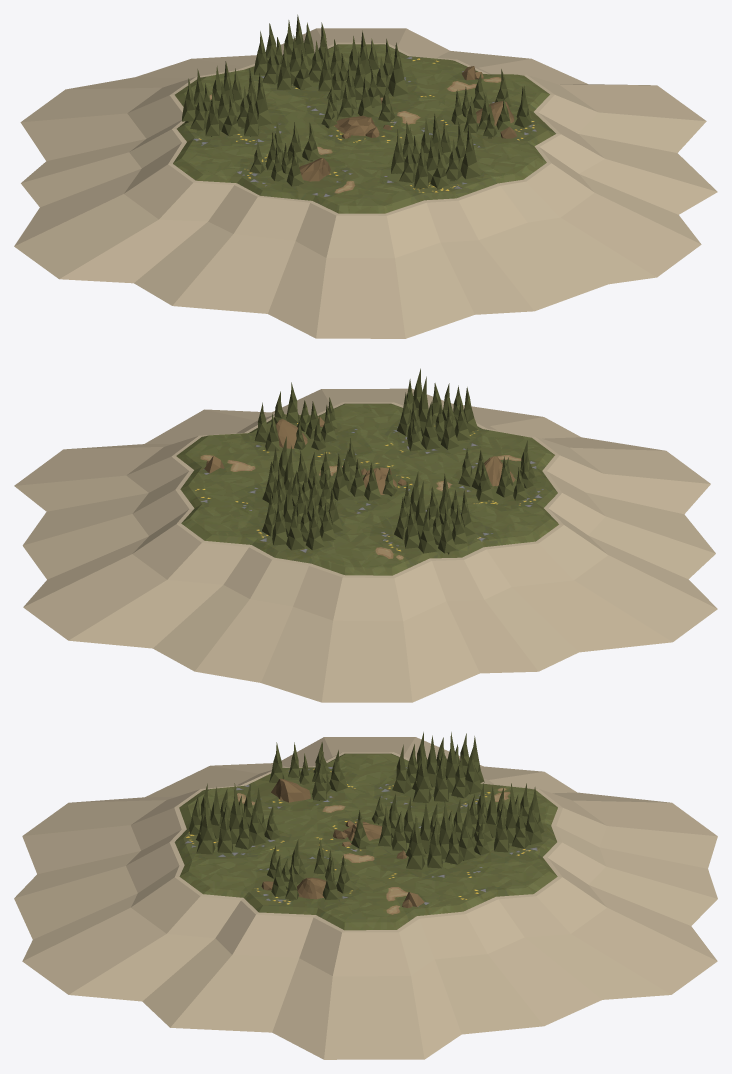
File: hexForest02.fbx
3 views of the same model, one above another, from view 1: azimuth 30°, elevation 25°; view 2: azimuth 150°, elevation 25°; view 3: azimuth 270°, elevation 25° (orthographic). The views are drawn at different scales.
Visible parts, largest first — view 1: hexForest02; view 2: hexForest02; view 3: hexForest02.
Boxes of the visible parts, x1,y1,x2,y2 form: hexForest02: (14,14,717,338); hexForest02: (14,368,717,702); hexForest02: (14,732,717,1059).
Size of the model in its own units: 28.24 by 4.89 by 26.02.
2 materials, 2 textured.
